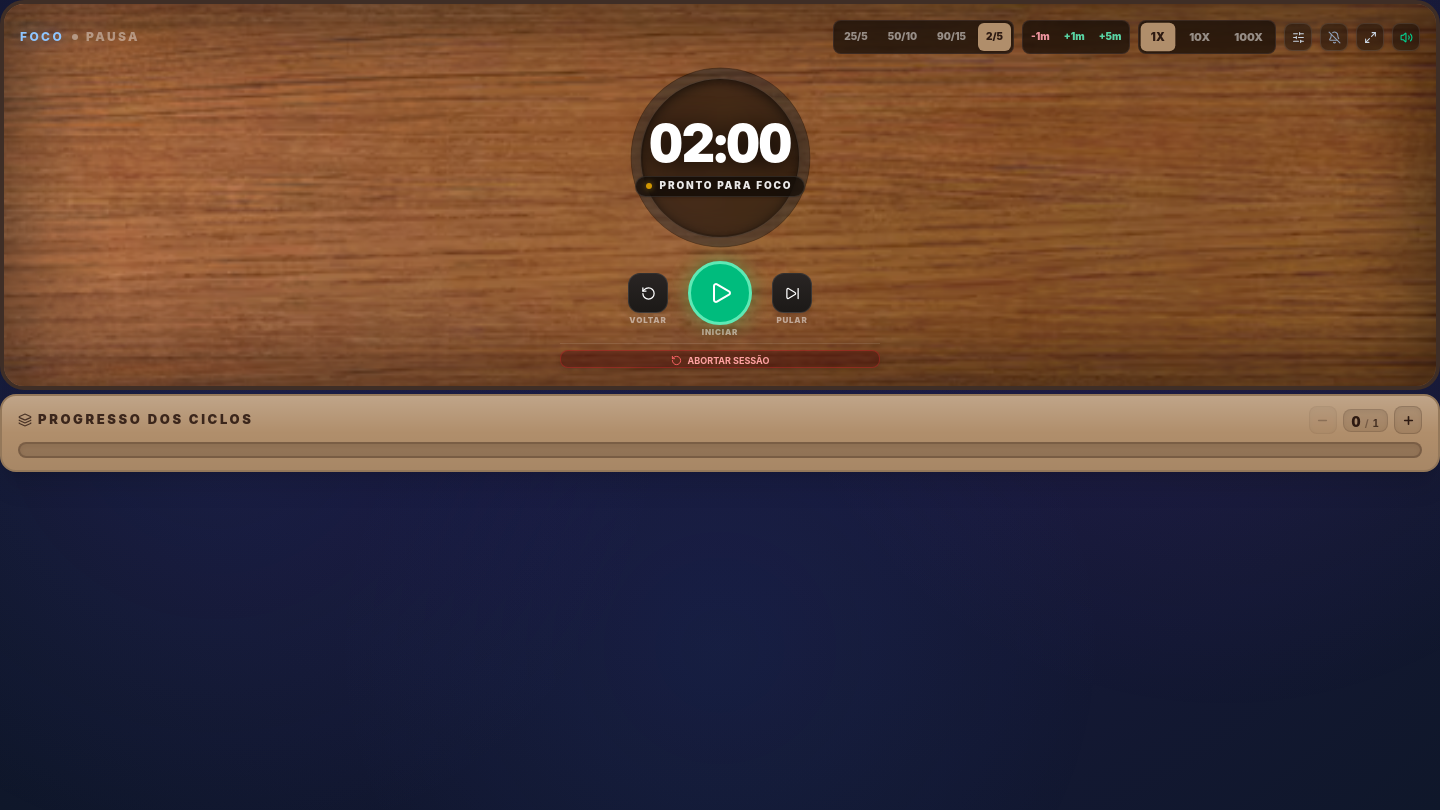
Cronômetro / Pomodoro Menu — 2026 Audit Bugfixes & Improvements › 8. -1m time adjustment reduces block safely and disables at <= 60s
Click the button named "Remover 1 minuto" at (1040, 37), box [1025, 23, 1056, 51]
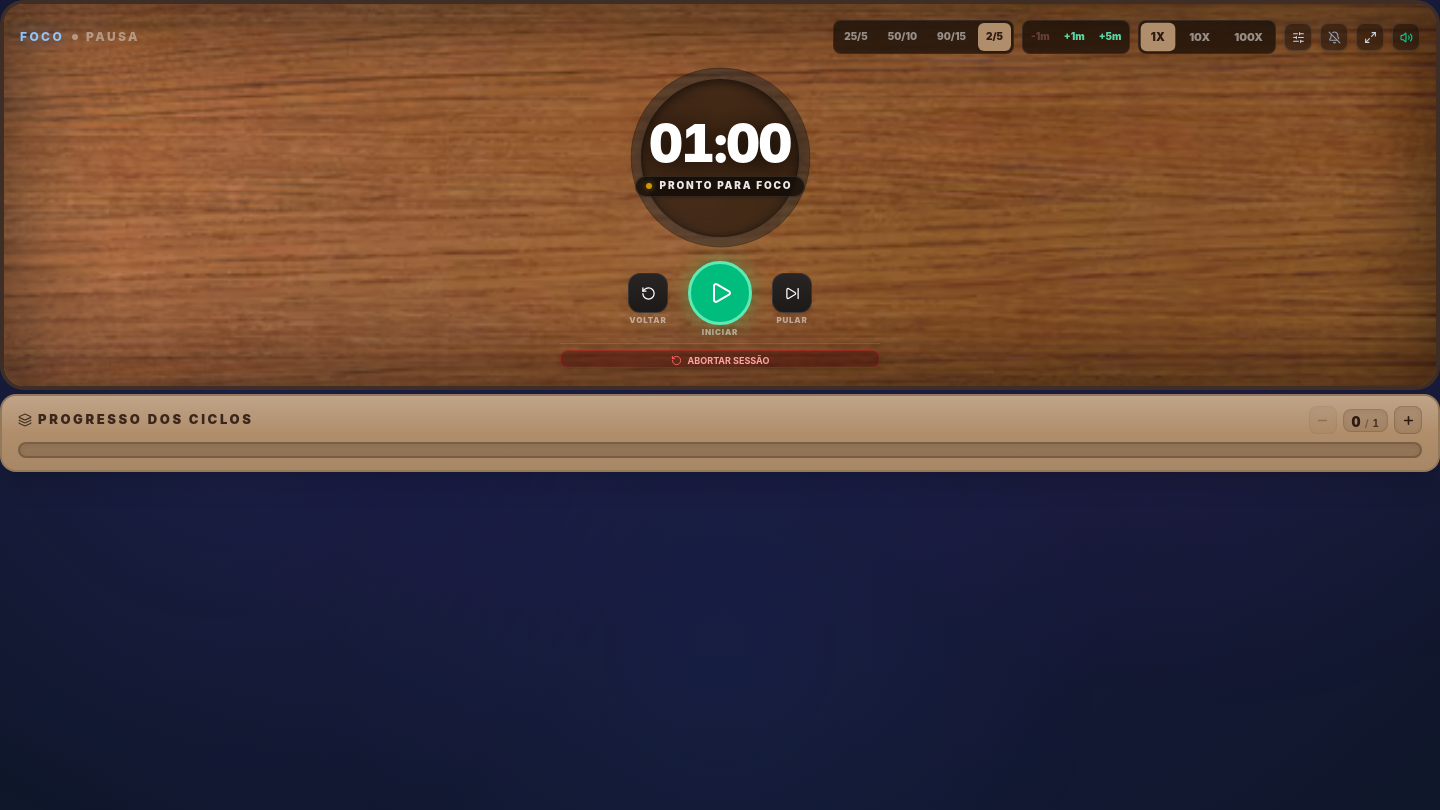
Expected: the text "01:00" is shown, [649, 118, 791, 170]
Expected: the button named "Remover 1 minuto" is disabled, [1025, 23, 1056, 51]
